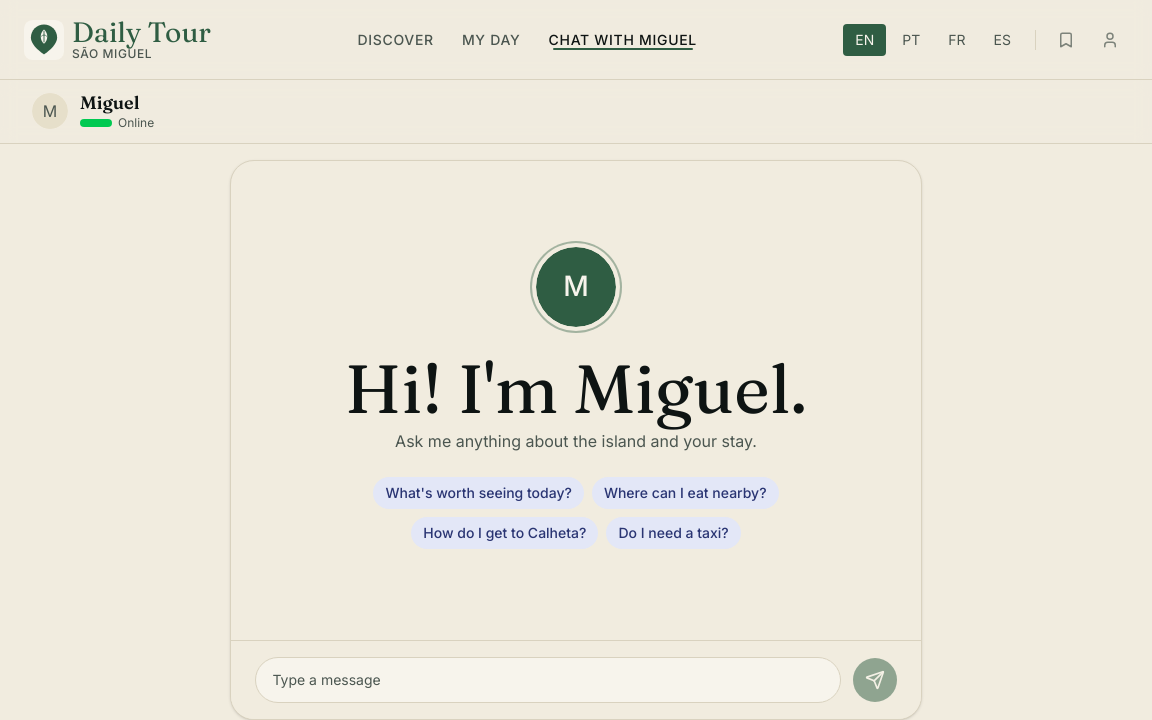
Scenario: Chat route › sends typed text and renders inbound JSON-framed messages
(page scrolled)
Type "olá!" into the field labelled "Type a message" at point(548, 680), box [255,656,841,702]
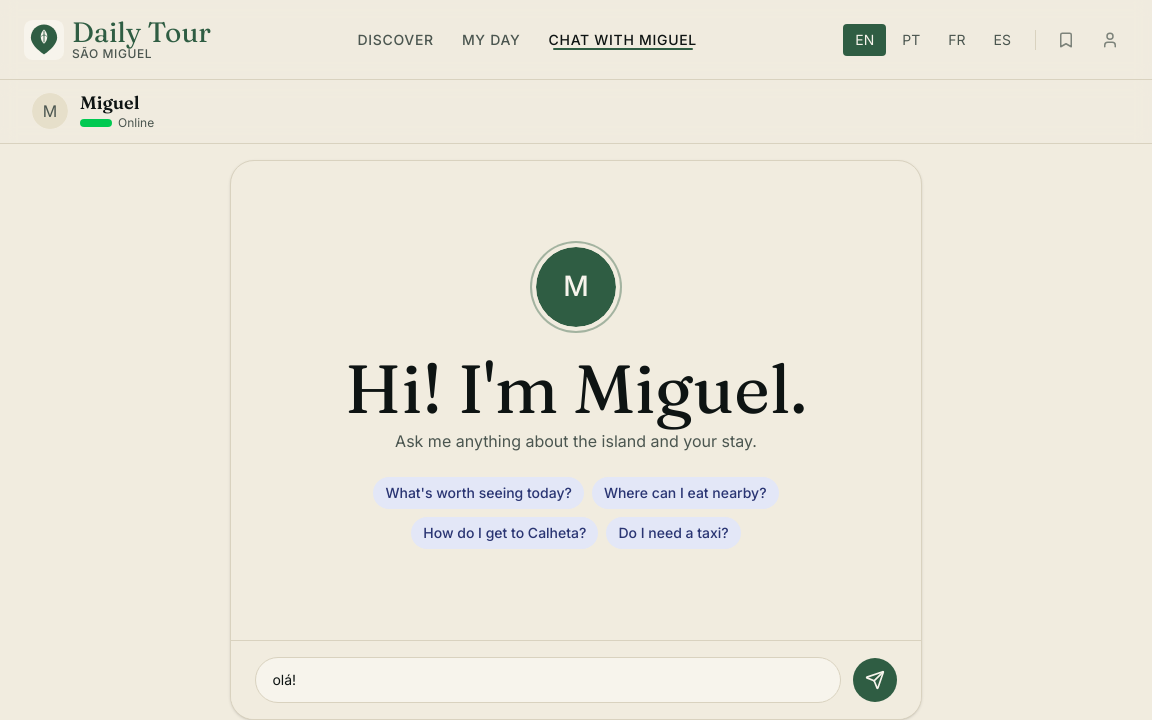
Click the button named "send" at point(875, 680), box [853,658,897,702]
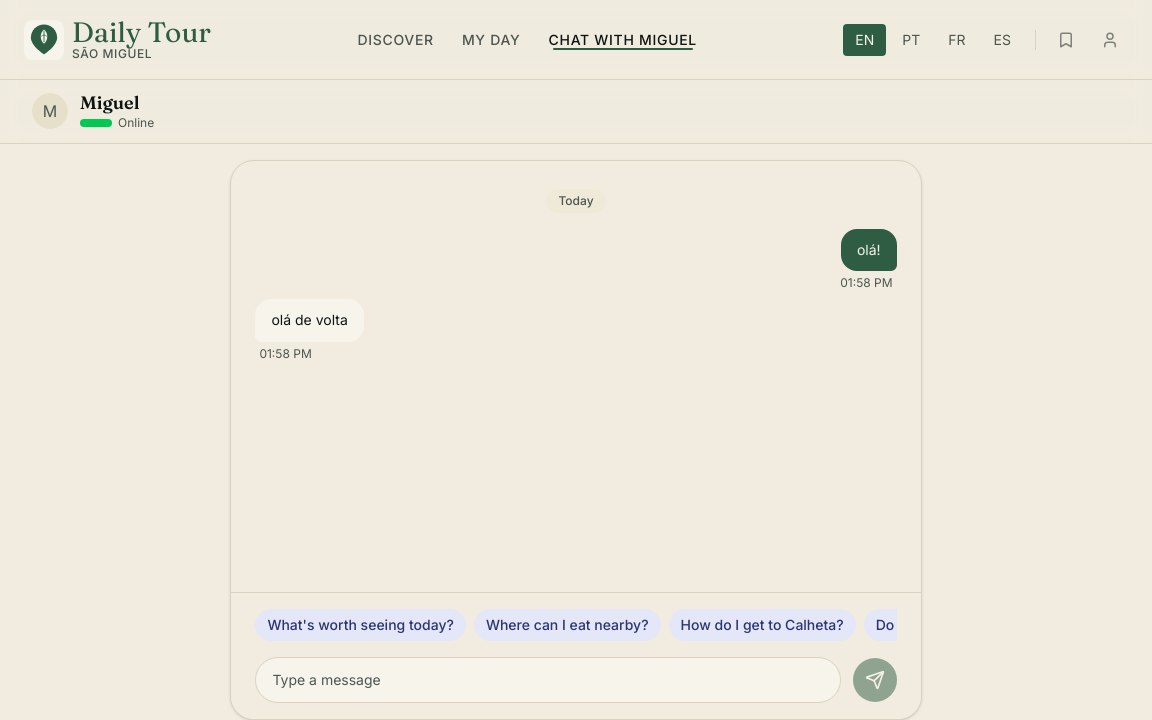
expect the text with test id "chat-bubble-me" reads "olá!": met, box [857,240,881,258]
expect the text with test id "chat-time-me" is shown: met, box [836,275,897,291]
expect the element with test id "chat-day-separator" is shown: met, box [546,188,606,212]
